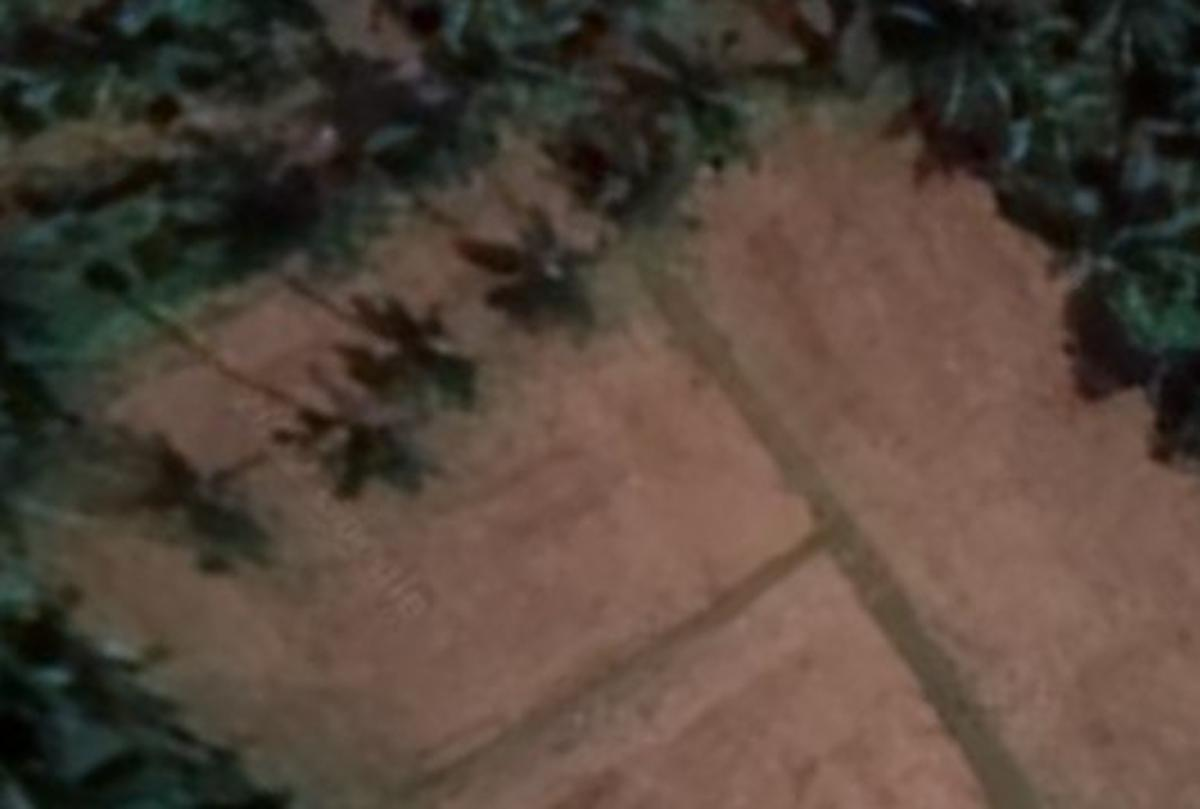coconut: (625, 33, 770, 162), (499, 212, 623, 343), (302, 397, 436, 506), (397, 323, 506, 409)
